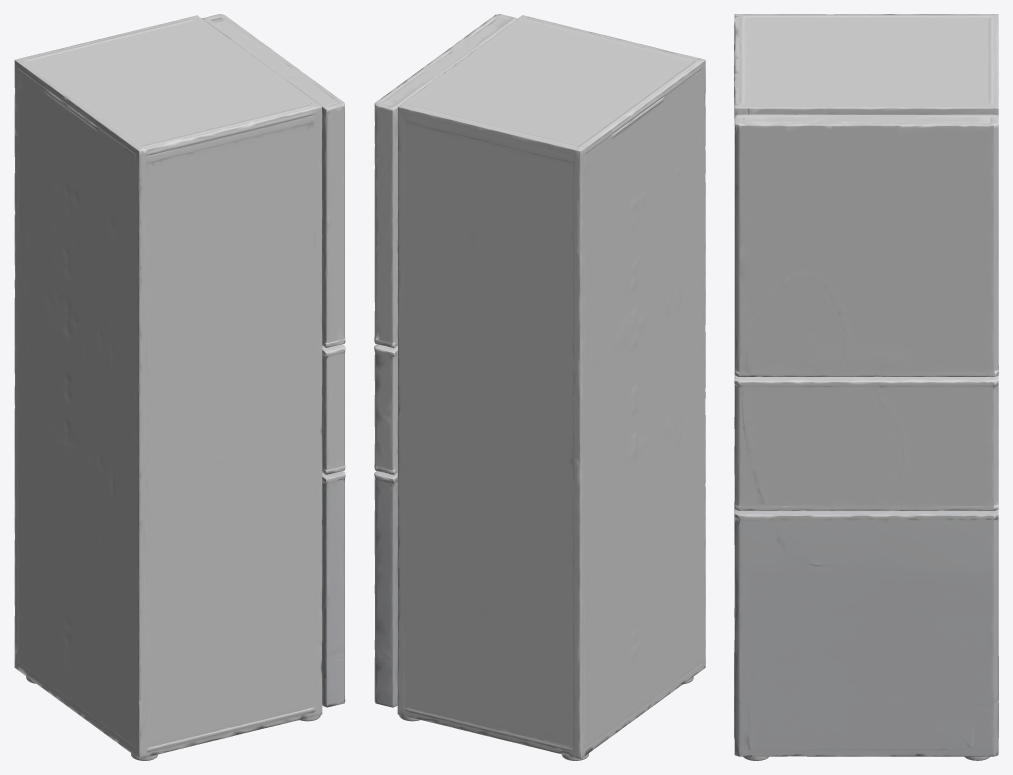
File: Fridge.fbx
3 renders of one model, left to right at view 1: azimuth 30°, elevation 25°; view 2: azimuth 150°, elevation 25°; view 3: azimuth 270°, elevation 25°, orthographic. The views are drawn at different scales.
Visible parts, largest first — view 1: tripo_part_19, tripo_part_0, tripo_part_12, tripo_part_2; view 2: tripo_part_19, tripo_part_0, tripo_part_12, tripo_part_2; view 3: tripo_part_0, tripo_part_12, tripo_part_2, tripo_part_19.
Boxes of the visible parts, bbox=[...] form: tripo_part_19: bbox=[14, 15, 322, 760]; tripo_part_0: bbox=[202, 14, 345, 347]; tripo_part_12: bbox=[321, 471, 345, 707]; tripo_part_2: bbox=[322, 344, 345, 474]; tripo_part_19: bbox=[397, 15, 705, 760]; tripo_part_0: bbox=[374, 14, 517, 347]; tripo_part_12: bbox=[374, 471, 397, 707]; tripo_part_2: bbox=[374, 344, 397, 474]; tripo_part_0: bbox=[734, 114, 998, 376]; tripo_part_12: bbox=[734, 509, 998, 756]; tripo_part_2: bbox=[734, 375, 998, 510]; tripo_part_19: bbox=[734, 14, 998, 760].
Size of the model in its own units: 34.72 by 36.12 by 98.01.
1 material, 1 textured.
